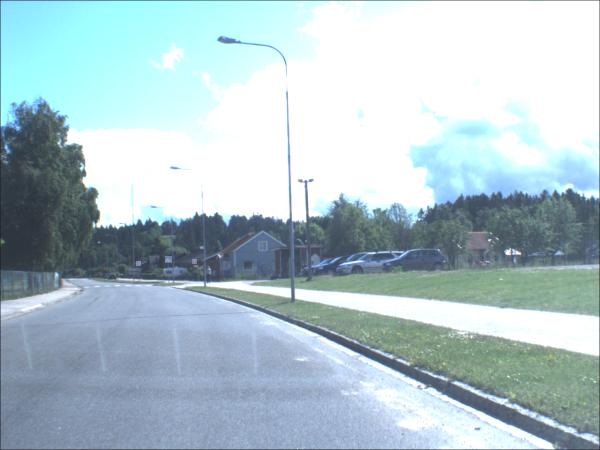NO_PARKING: (193, 261, 199, 267), (138, 262, 144, 268)
PEDESTRIAN_CROSSING: (166, 257, 174, 265)
